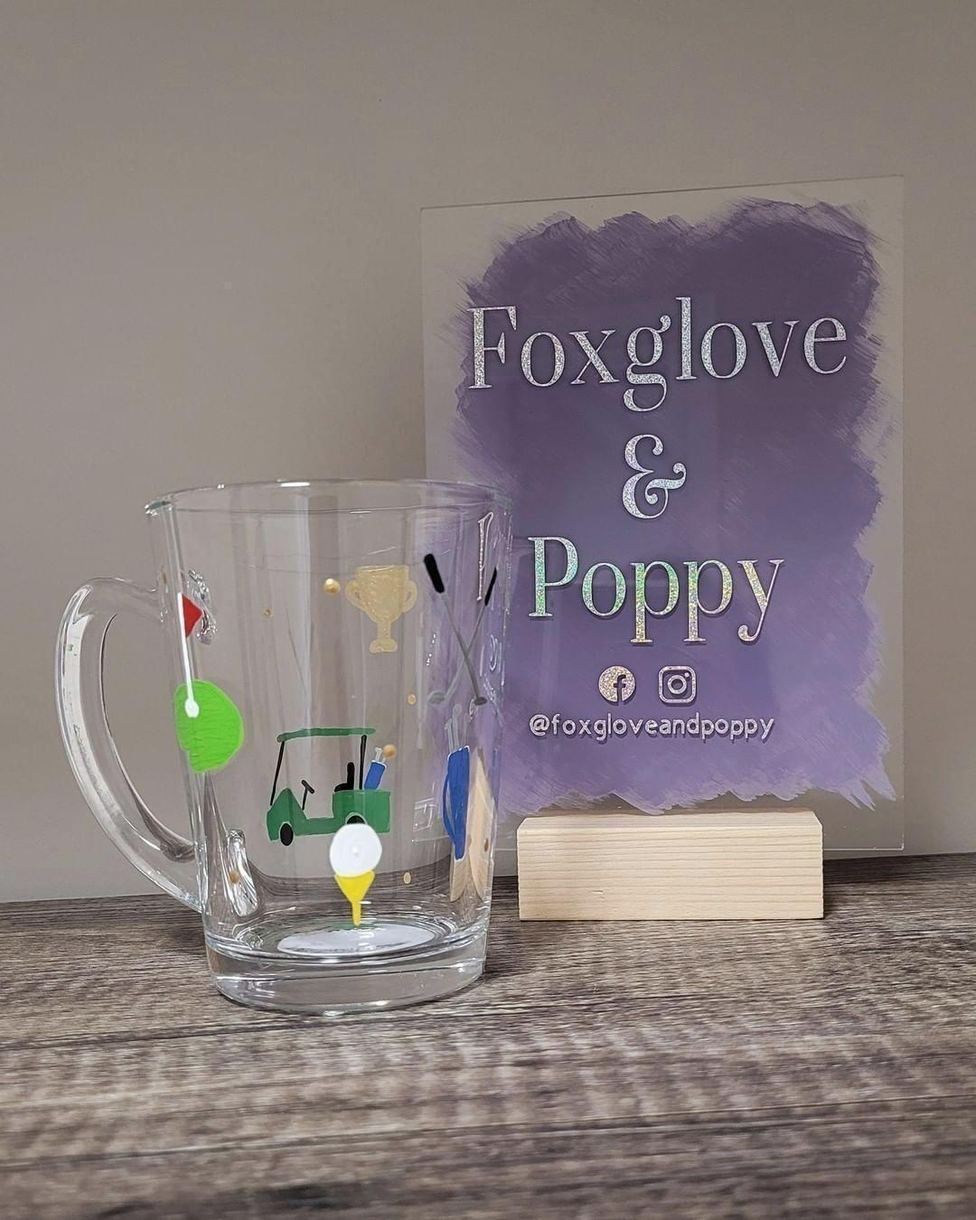glass-mug: (57, 464, 526, 1020)
